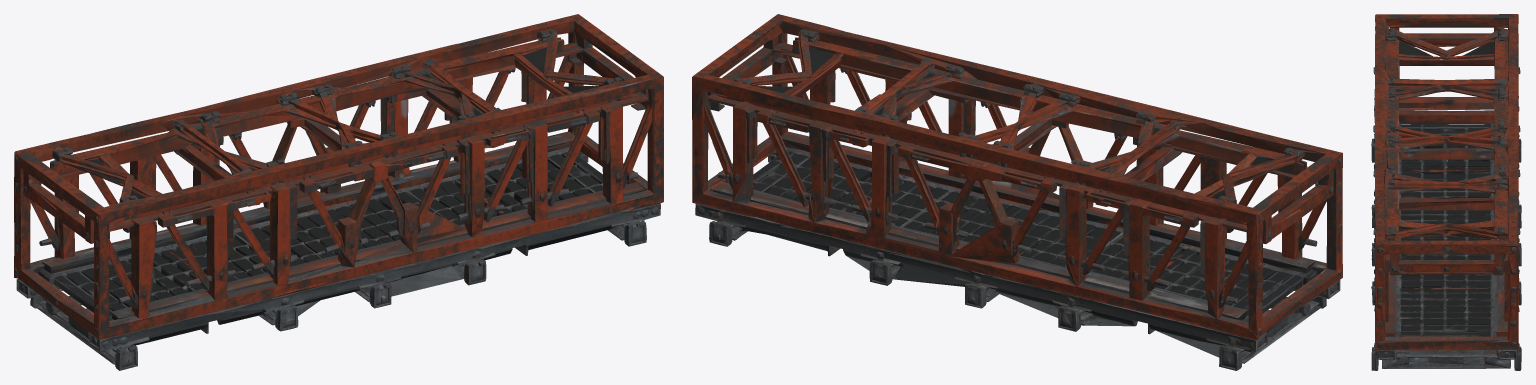
File: conveyor_bridge_truss.glb
The picture shows the model from 3 angles, left to right: view 1: azimuth 30°, elevation 25°; view 2: azimuth 150°, elevation 25°; view 3: azimuth 270°, elevation 25°; orthographic projection. The views are drawn at different scales.
Size of the model in its own units: 1.9 by 0.5147 by 0.5219.
1 material, 1 textured.
